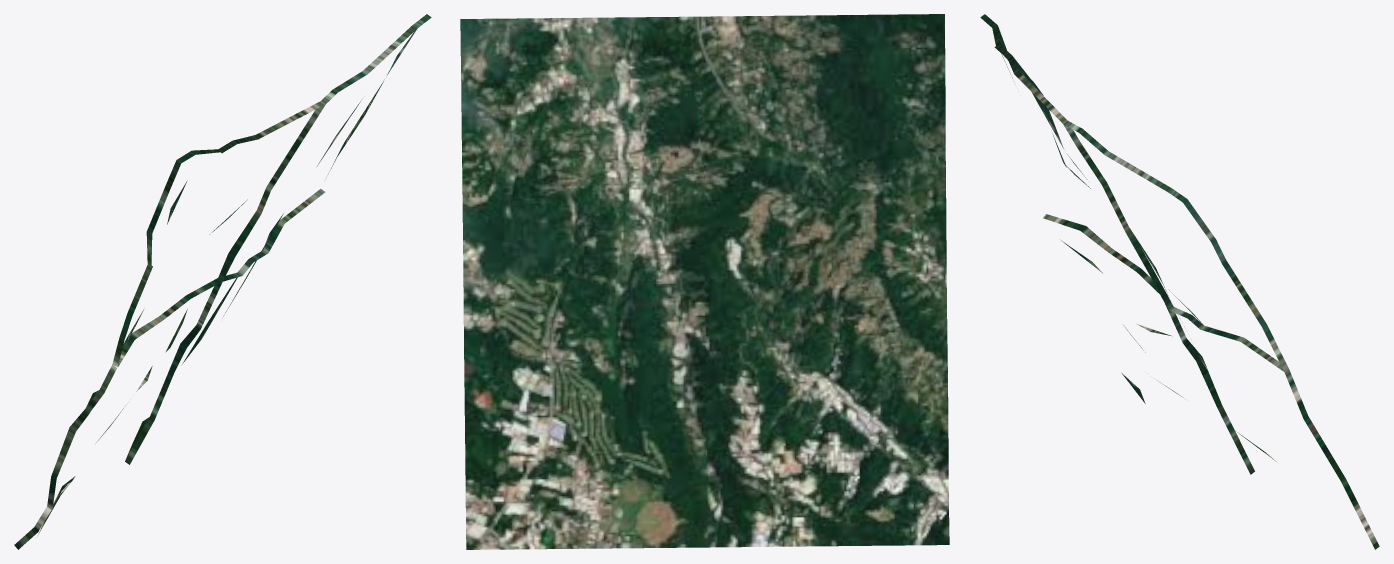
The picture shows the model from 3 angles, left to right: view 1: azimuth 30°, elevation 25°; view 2: azimuth 150°, elevation 25°; view 3: azimuth 270°, elevation 25°; orthographic projection. The views are drawn at different scales.
Size of the model in its own units: 4944 by 4609 by 3958.
1 material, 1 textured.
